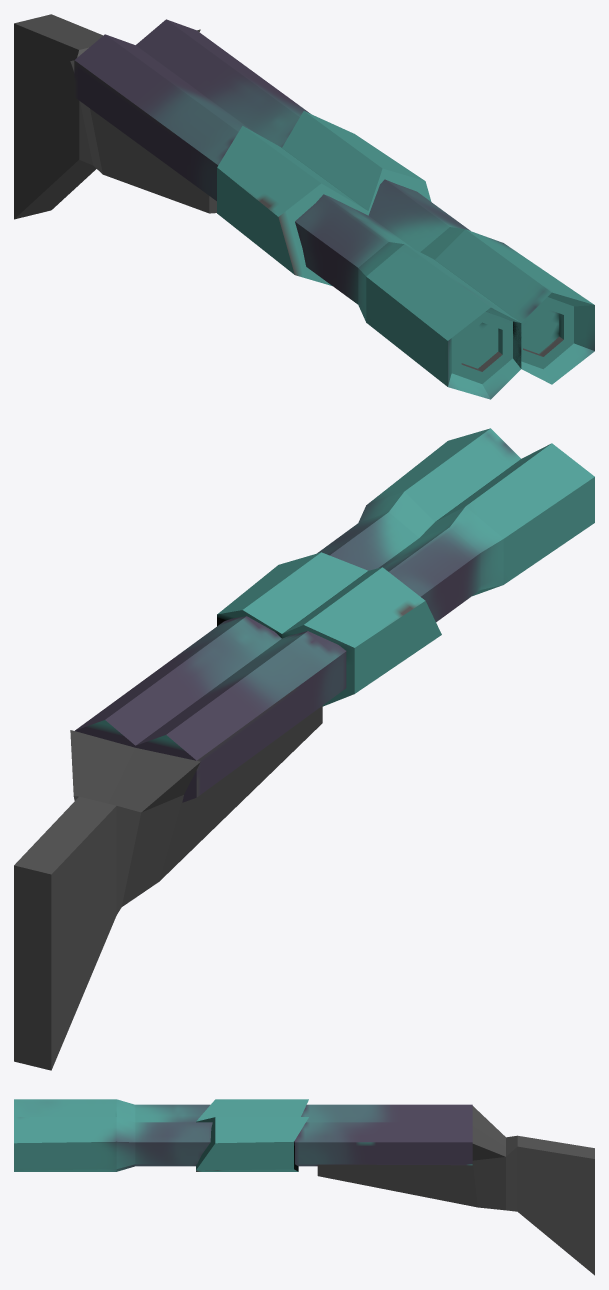
File: icebarrel.glb
3 views of the same model, one above another, from view 1: azimuth 30°, elevation 25°; view 2: azimuth 150°, elevation 25°; view 3: azimuth 270°, elevation 25° (orthographic). The views are drawn at different scales.
Visible parts, largest first — view 1: Double.Barrel.001; view 2: Double.Barrel.001; view 3: Double.Barrel.001.
Boxes of the visible parts, x1,y1,x2,y2 form: Double.Barrel.001: (14, 14, 594, 399); Double.Barrel.001: (14, 428, 594, 1070); Double.Barrel.001: (14, 1099, 594, 1275).
Size of the model in its own units: 0.0479 by 0.0848 by 0.2756.
Materials: 1 (1 with a texture image).
